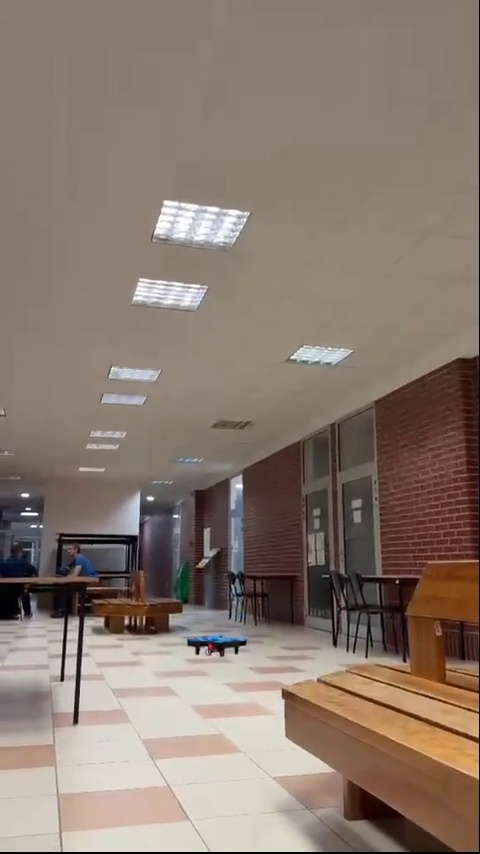drone: (188, 634, 249, 659)
no vest: (56, 539, 98, 613), (2, 542, 41, 619)
